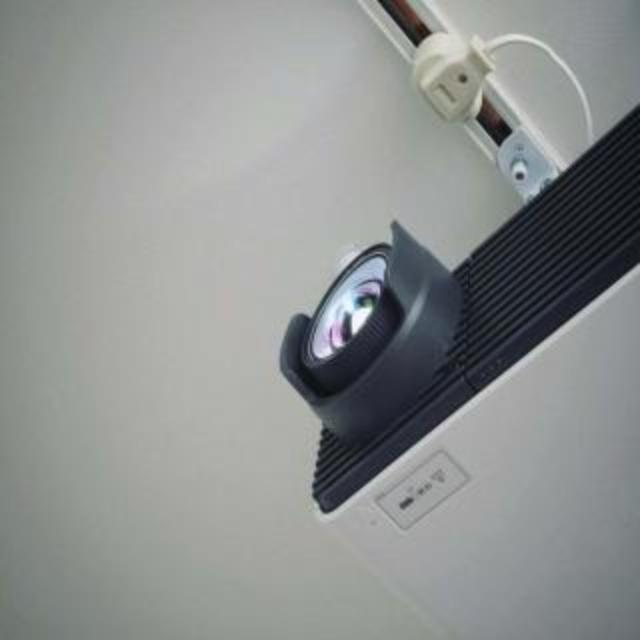Projector: (276, 102, 640, 640)
